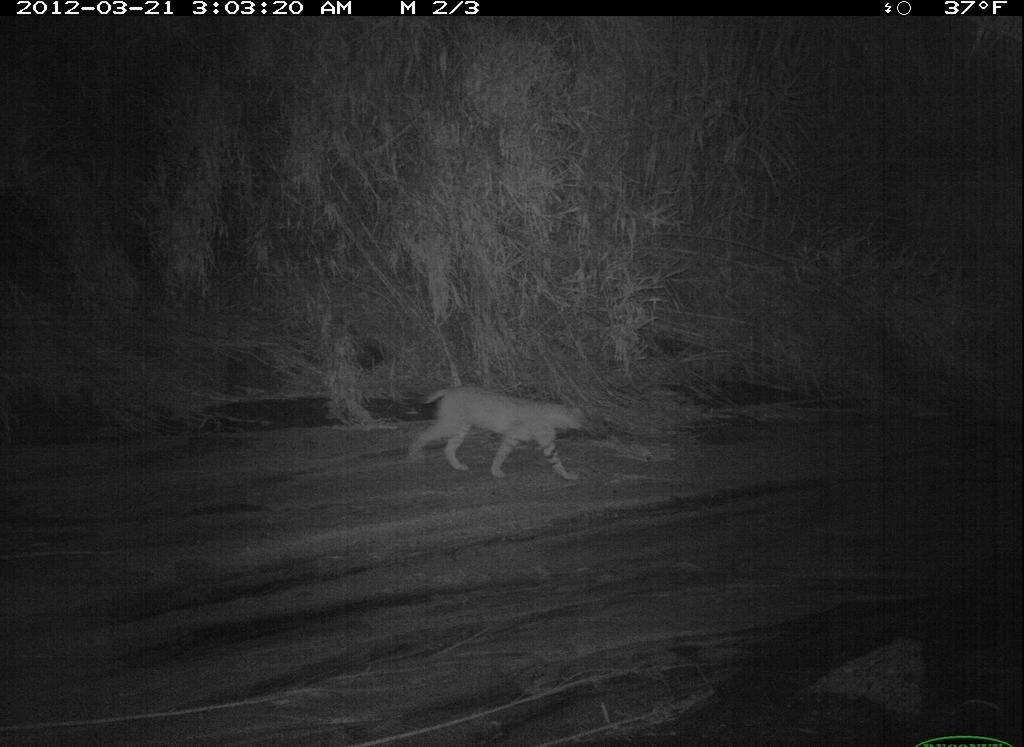bobcat: (400, 377, 592, 496)
